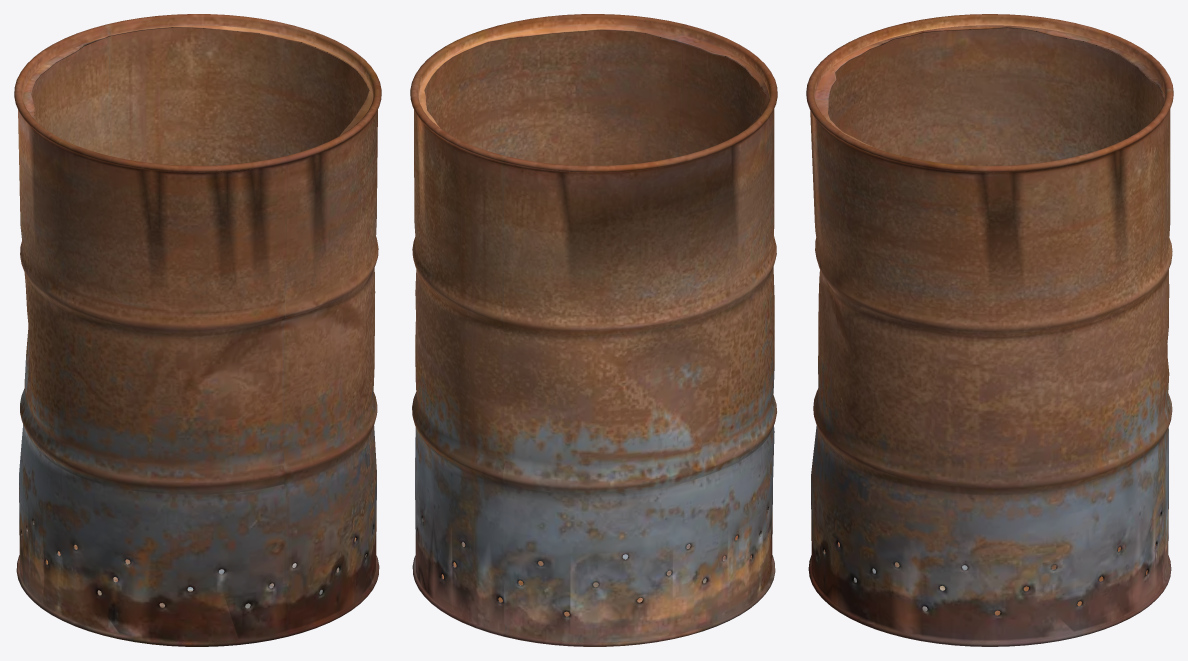
Rendered from ind_barrel_stove.glb.
3 renders of one model, left to right at view 1: azimuth 30°, elevation 25°; view 2: azimuth 150°, elevation 25°; view 3: azimuth 270°, elevation 25°, orthographic.
Visible parts, largest first — view 1: barrel_stove; view 2: barrel_stove; view 3: barrel_stove.
Boxes of the visible parts, x1,y1,x2,y2 form: barrel_stove: (14, 14, 381, 646); barrel_stove: (410, 14, 777, 646); barrel_stove: (806, 14, 1173, 646).
Size of the model in its own units: 0.5926 by 0.8556 by 0.5926.
Materials: 1 (1 with a texture image).
